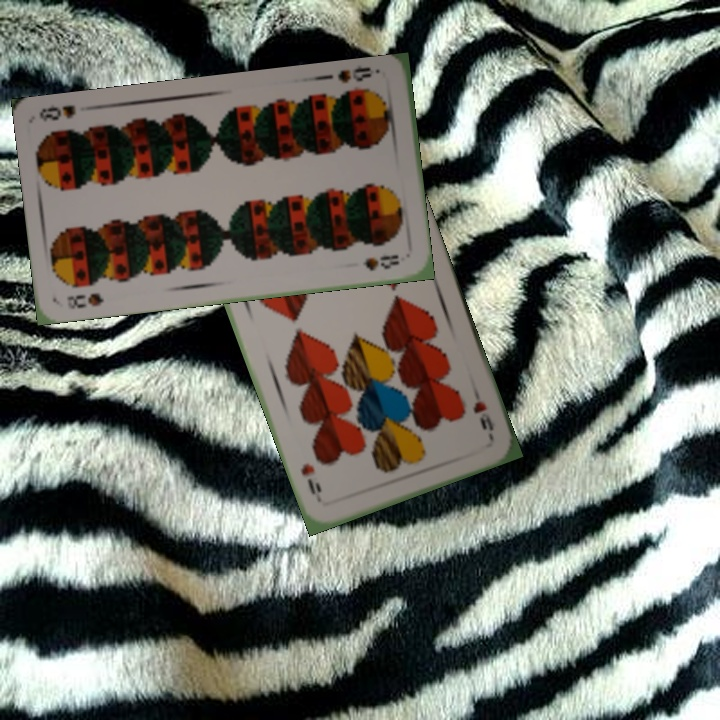H9: (469, 397, 499, 441)
S8: (63, 289, 107, 312), (334, 63, 374, 86)
